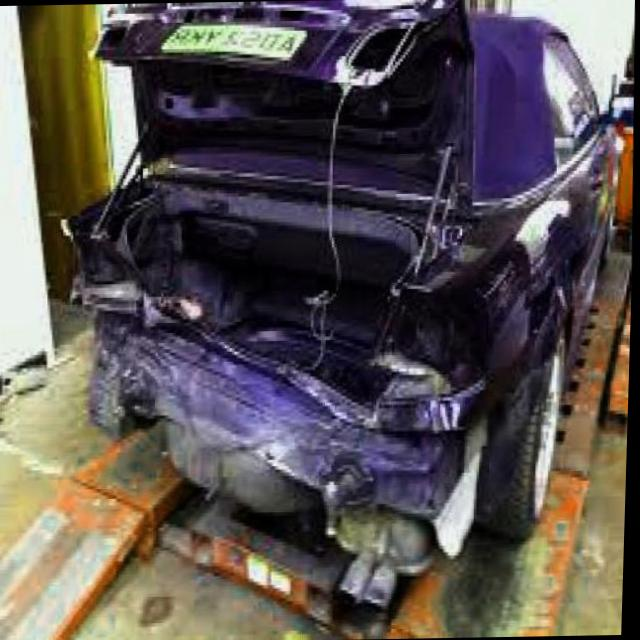Car-Damage: (51, 1, 551, 580)
